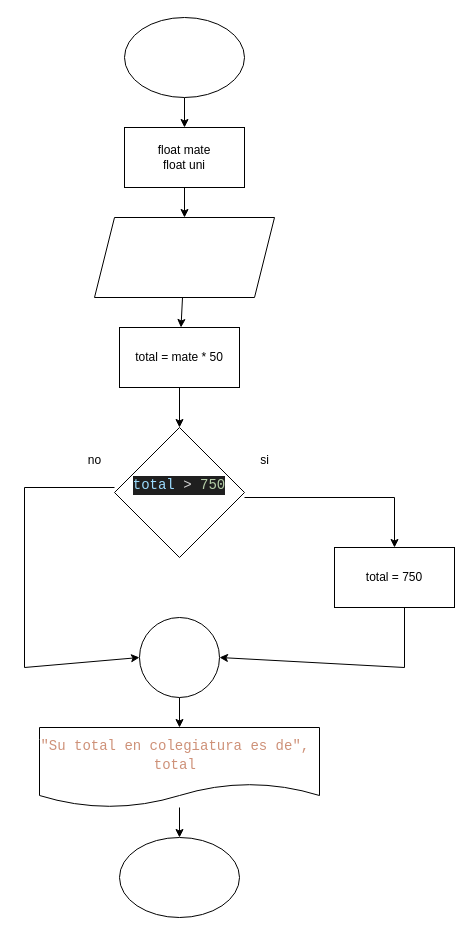
The diagram is 472 pixels wide and 935 high, and some of its shapes have lost their labels. The box of each missing label's shape, as (x1, y1, x2, y2) in pixels:
"total de materias a cursar" , mate: (94, 216, 274, 298)
FIN: (118, 836, 240, 918)
inicio: (124, 16, 244, 98)
